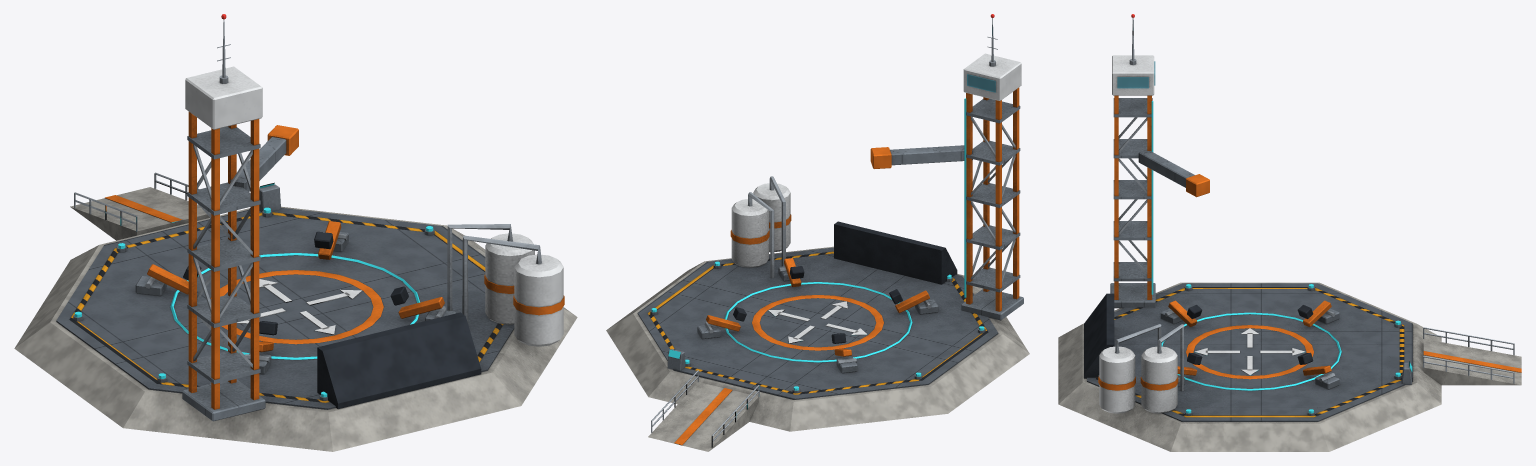
The model's file is plataforma_lanzamiento.fbx.
The picture shows the model from 3 angles, left to right: view 1: azimuth 30°, elevation 25°; view 2: azimuth 150°, elevation 25°; view 3: azimuth 270°, elevation 25°; orthographic projection. The views are drawn at different scales.
Parts seen in each view (by area): view 1: plataforma_lanzamiento, plataforma_lanzamiento_neon; view 2: plataforma_lanzamiento, plataforma_lanzamiento_neon; view 3: plataforma_lanzamiento, plataforma_lanzamiento_neon.
Part boxes in pixels (x1=…): plataforma_lanzamiento: x1=14, y1=19, x2=577, y2=451; plataforma_lanzamiento_neon: x1=74, y1=182, x2=433, y2=397; plataforma_lanzamiento: x1=606, y1=18, x2=1029, y2=451; plataforma_lanzamiento_neon: x1=651, y1=98, x2=984, y2=390; plataforma_lanzamiento: x1=1058, y1=18, x2=1521, y2=451; plataforma_lanzamiento_neon: x1=1151, y1=101, x2=1412, y2=413.
Size of the model in its own units: 50.81 by 44.28 by 61.41.
Materials: 3 (3 with a texture image).
